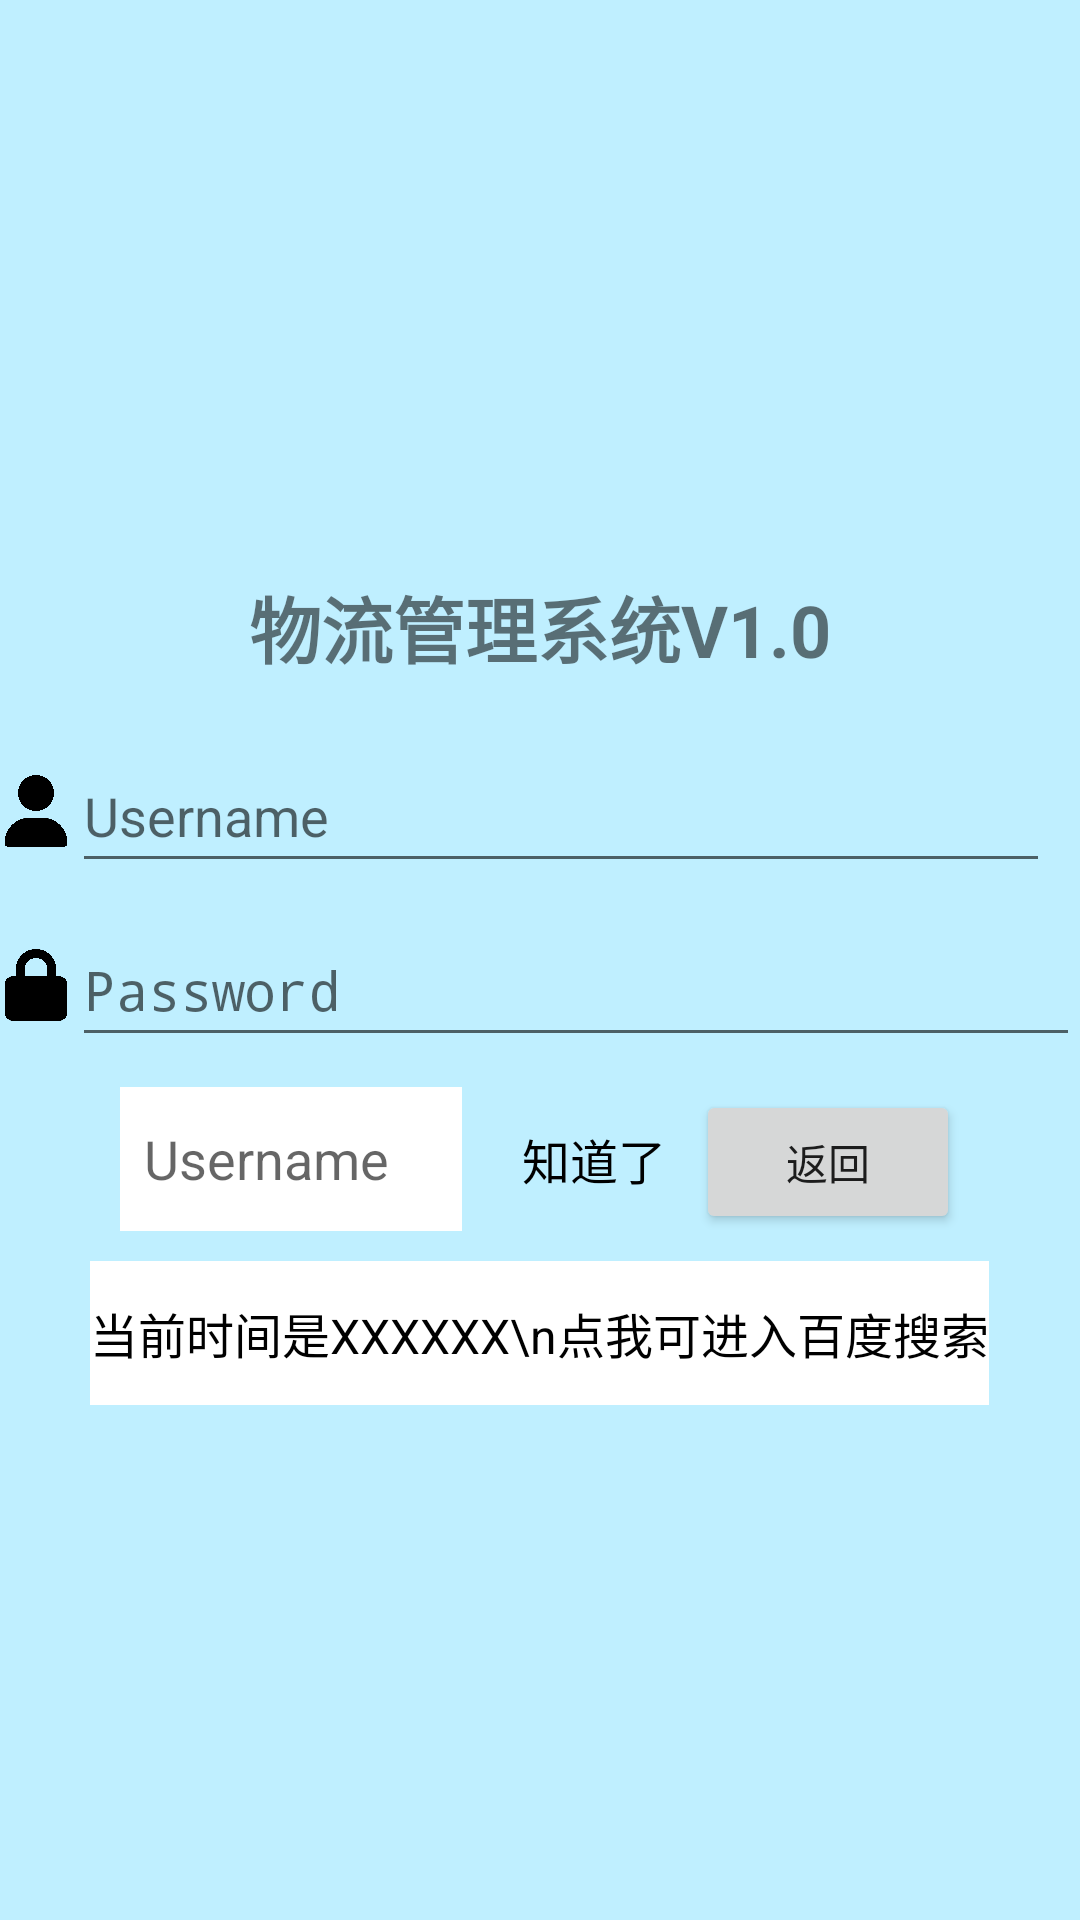

Named icons in this screenshot (1080x1920) and their bounding boxes, box=[x1, y1, x2, y2]:
lock: box=[5, 949, 67, 1021]
